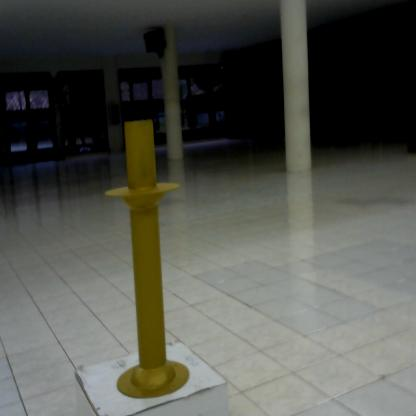pole: (98, 112, 195, 409)
